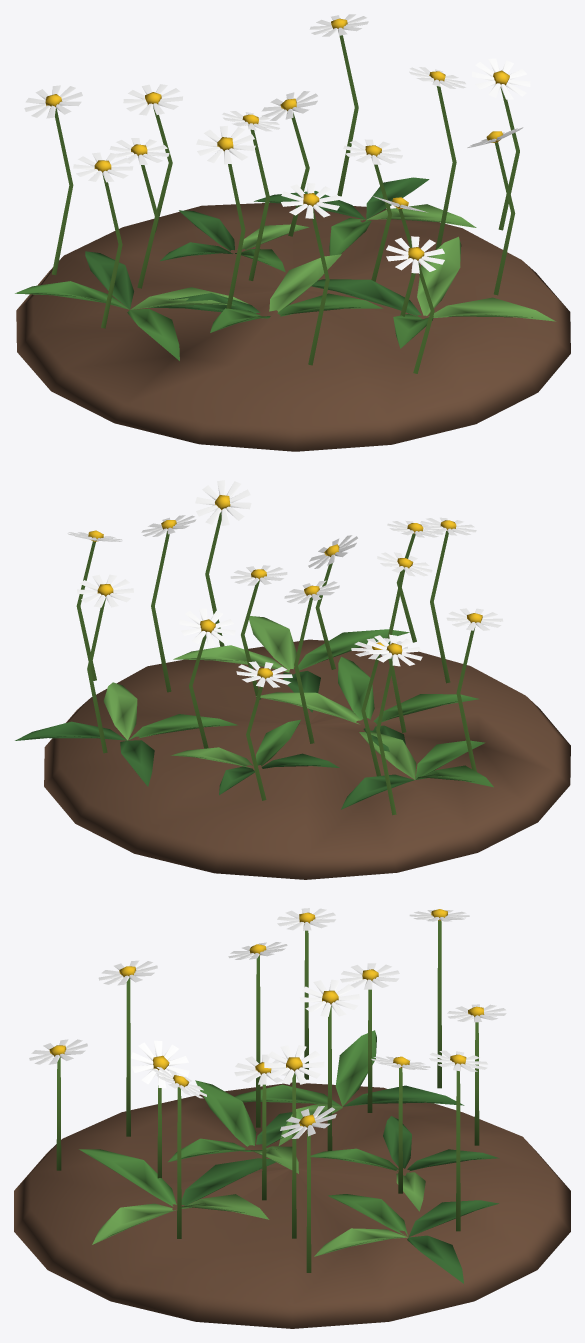
Rendered from daisies.glb.
3 renders of one model, top to bottom at view 1: azimuth 30°, elevation 25°; view 2: azimuth 150°, elevation 25°; view 3: azimuth 270°, elevation 25°, orthographic. The views are drawn at different scales.
Visible parts, largest first — view 1: daisies; view 2: daisies; view 3: daisies.
Part boxes in pixels (x1,y1,x2,y2): daisies: (15,14,570,451); daisies: (15,480,570,879); daisies: (14,908,570,1328).
Bounding box in the file's own units: 0.84 × 0.376 × 0.84.
